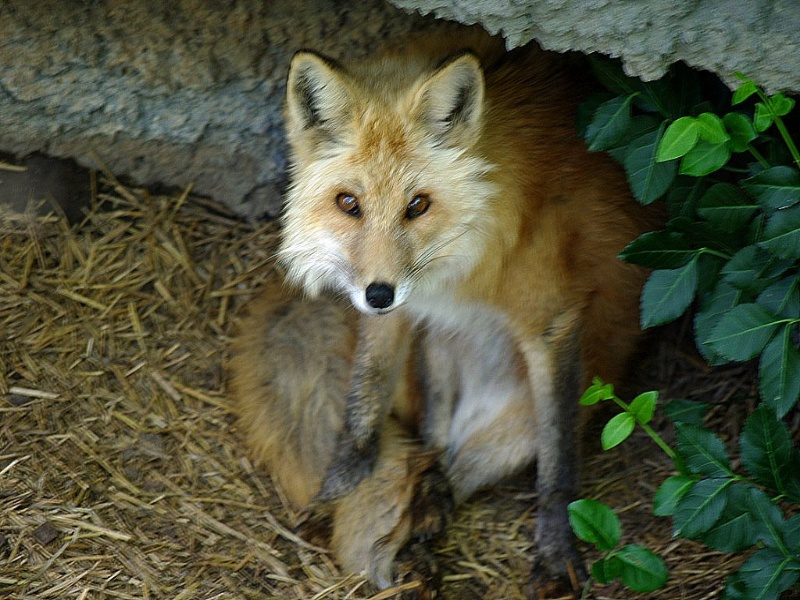fox: (219, 42, 658, 600)
